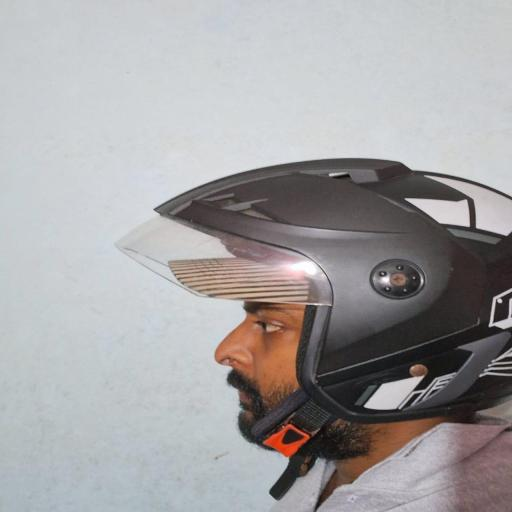with helmet: (114, 156, 512, 426)
